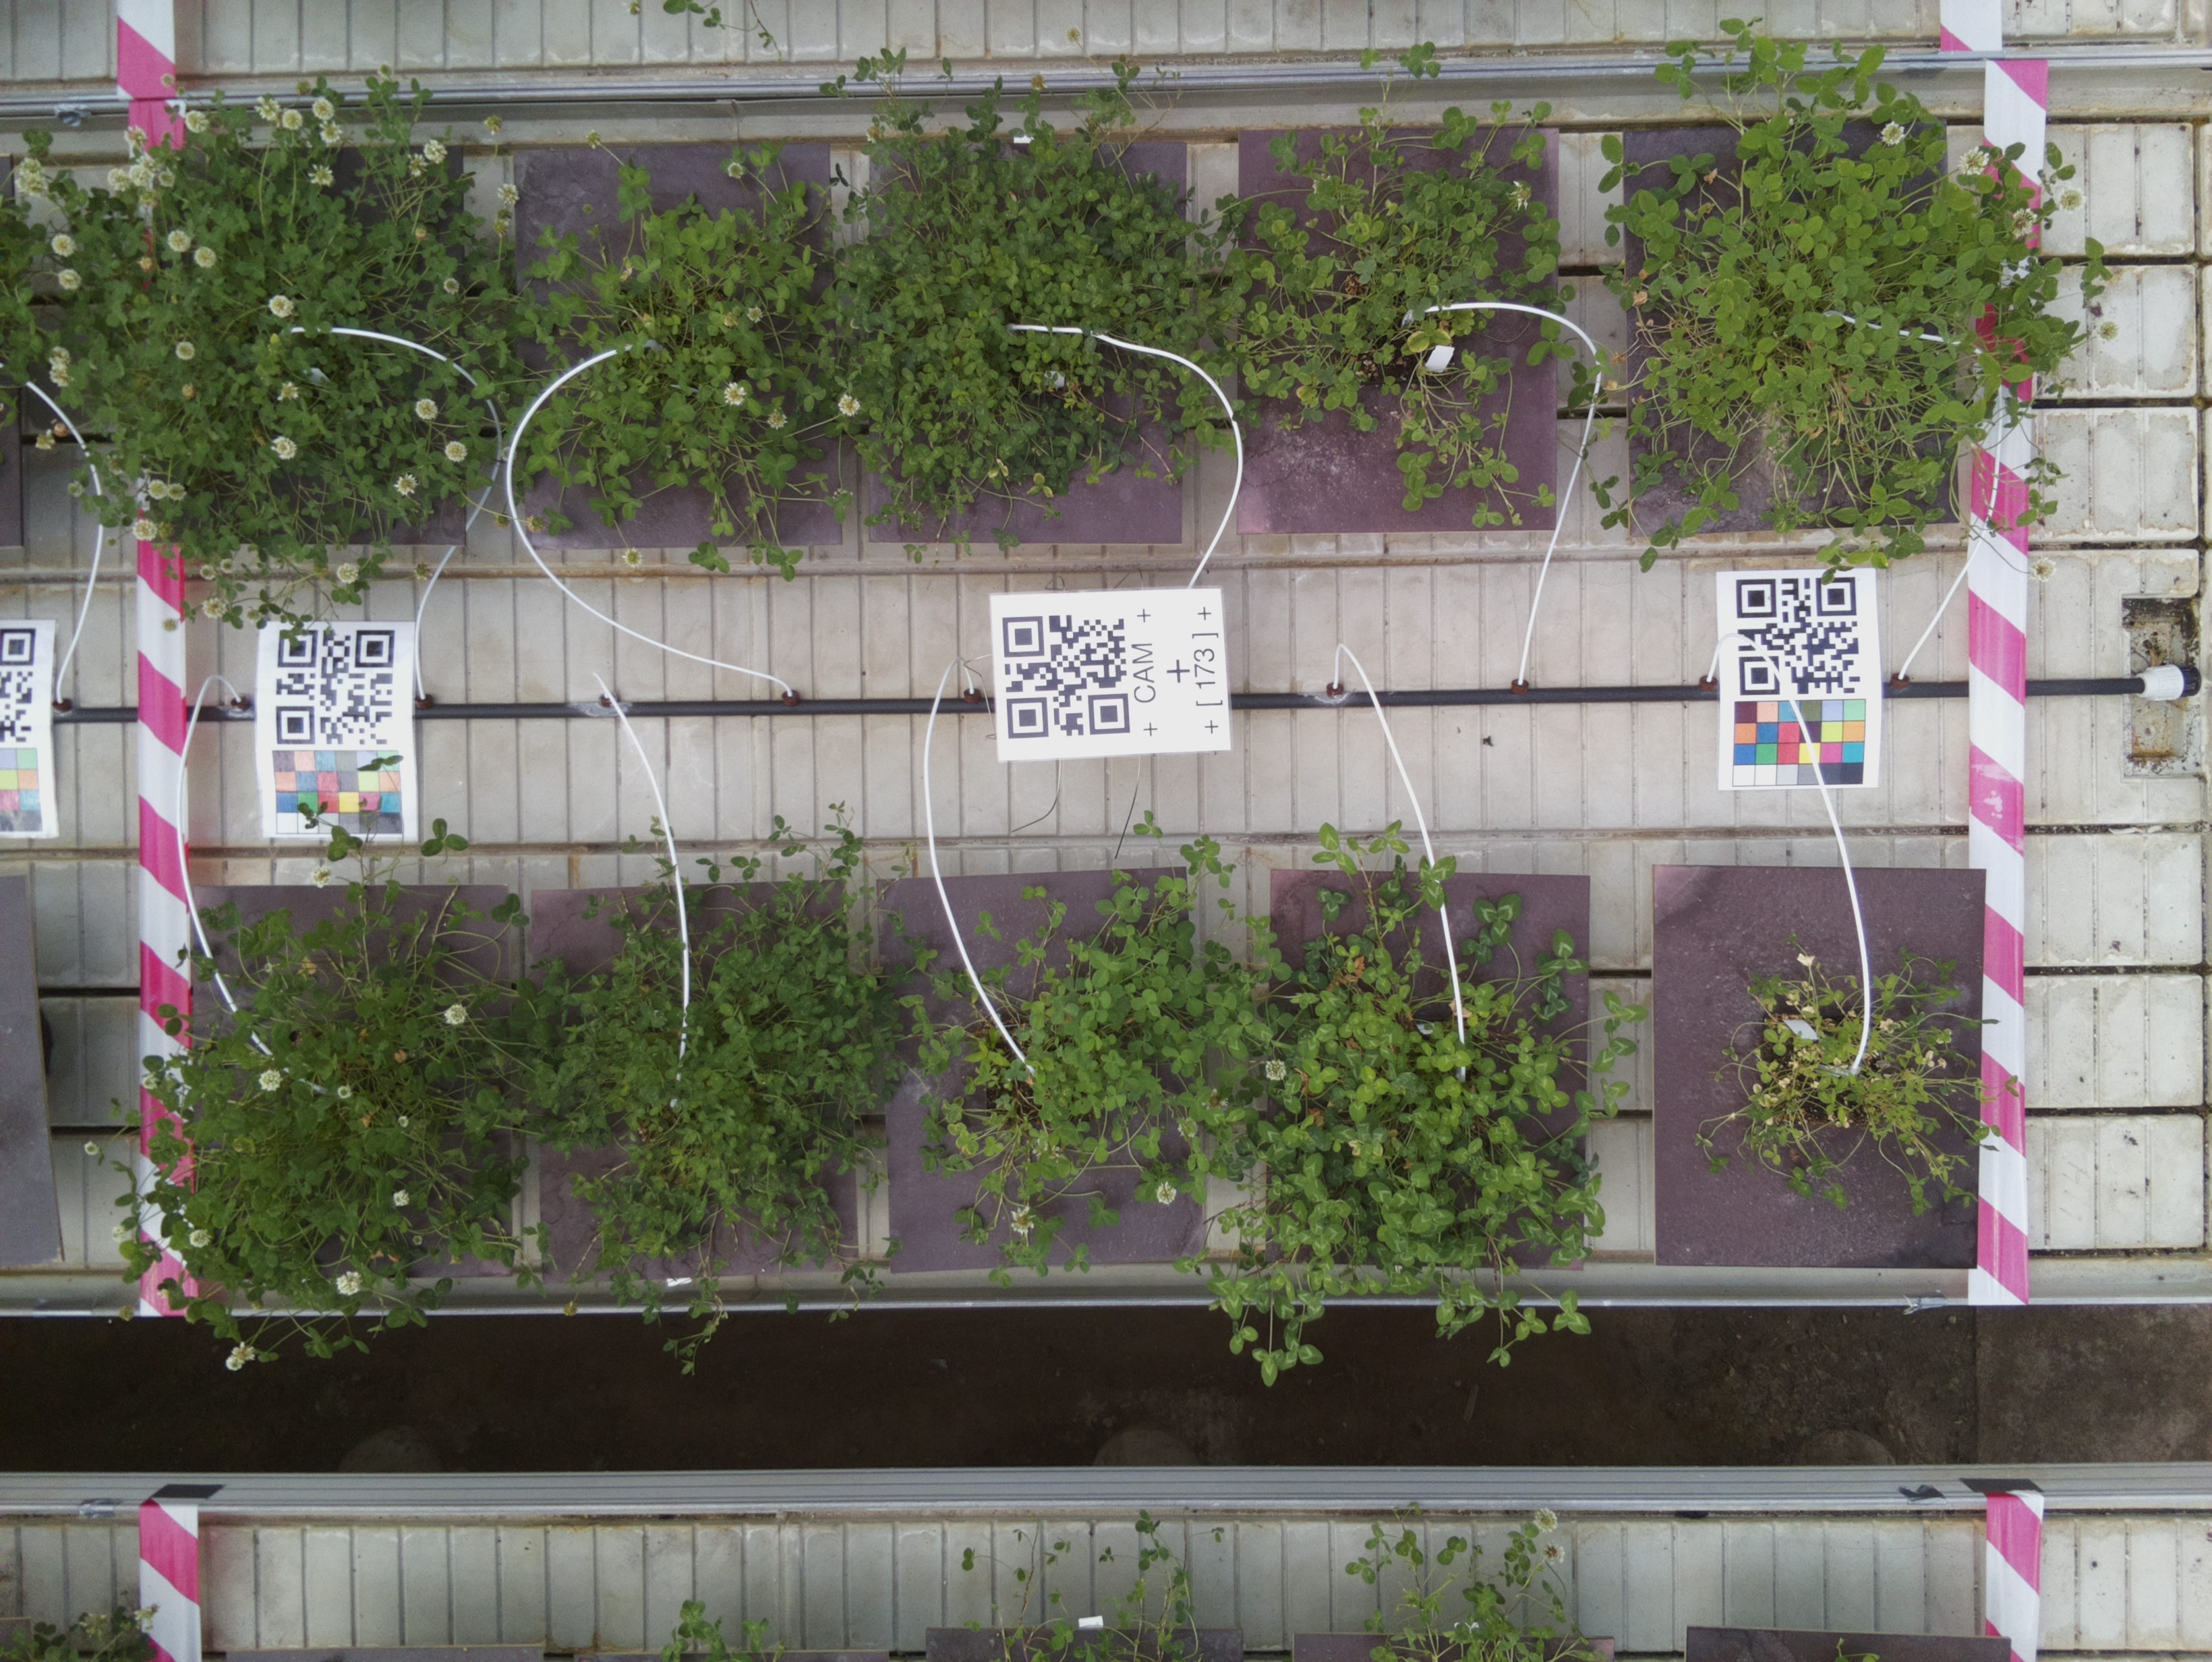POT: (1624, 126, 1962, 529), (1238, 126, 1563, 534), (1655, 866, 1978, 1271), (878, 878, 1213, 1266), (513, 147, 829, 546), (531, 890, 854, 1278), (194, 885, 513, 1276), (871, 138, 1180, 541), (1276, 876, 1583, 1278), (169, 147, 461, 543)
QRCODE: (986, 587, 1236, 768)
QRCOLOR: (255, 616, 419, 841), (1716, 573, 1880, 791)
